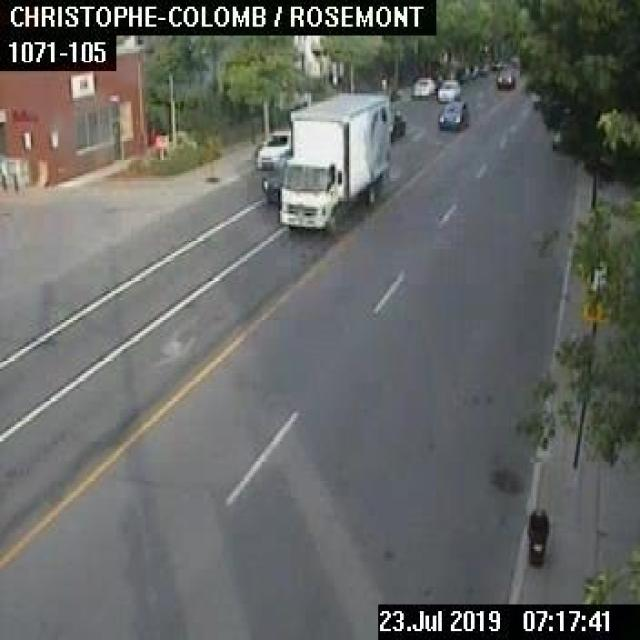vehicle: (278, 93, 390, 231), (255, 129, 289, 165), (437, 100, 465, 129), (260, 167, 281, 203), (436, 78, 458, 100), (411, 75, 433, 96), (390, 108, 404, 138), (495, 68, 512, 86), (456, 64, 468, 80), (468, 63, 478, 78), (490, 58, 501, 68), (479, 61, 487, 74)
